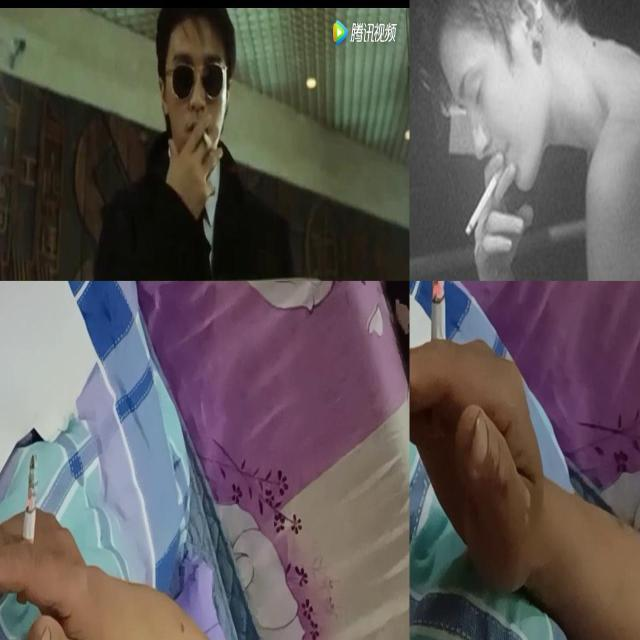smoking: (463, 157, 511, 239), (16, 454, 38, 606), (430, 280, 447, 364), (202, 132, 214, 148)
